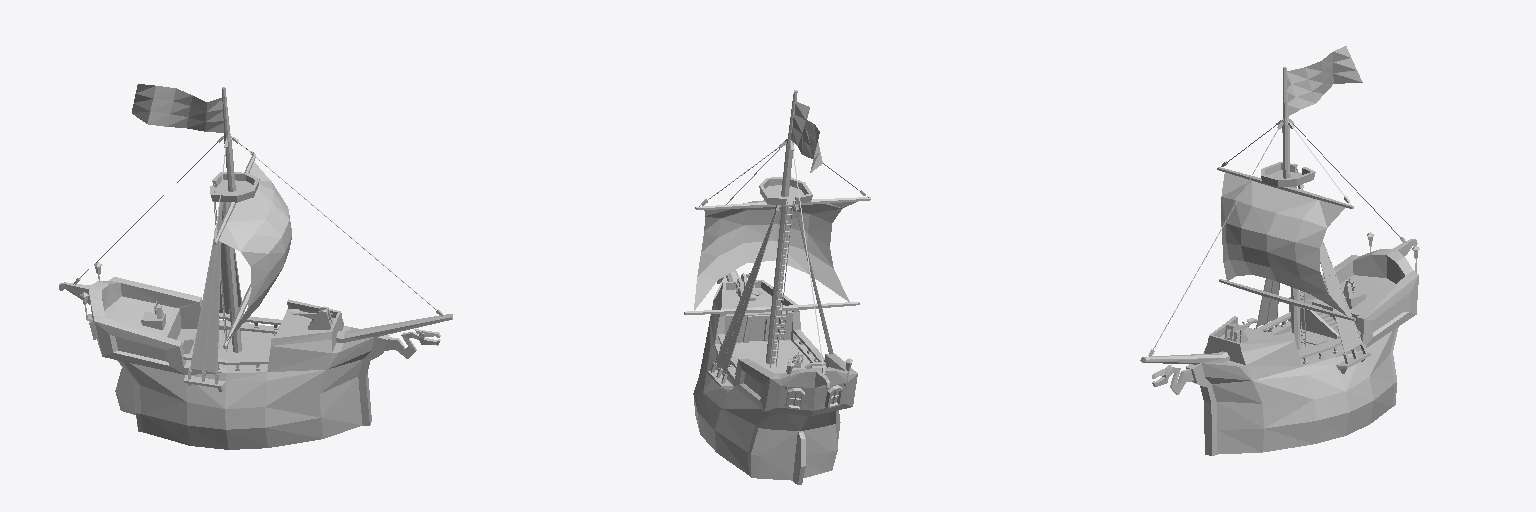
The model's file is ship.obj.
3 renders of one model, left to right at view 1: azimuth 30°, elevation 25°; view 2: azimuth 150°, elevation 25°; view 3: azimuth 270°, elevation 25°, orthographic.
Visible parts, largest first — view 1: DolPirate:polygon40, DolPirate:polygon46, DolPirate:polygon45, DolPirate:polygon43; view 2: DolPirate:polygon40, DolPirate:polygon46, DolPirate:polygon45, DolPirate:polygon41; view 3: DolPirate:polygon40, DolPirate:polygon46, DolPirate:polygon45, DolPirate:polygon41.
Part boxes in pixels (left/top/right/bottom): DolPirate:polygon40: left=59, top=87, right=452, bottom=449; DolPirate:polygon46: left=219, top=162, right=291, bottom=340; DolPirate:polygon45: left=132, top=84, right=223, bottom=132; DolPirate:polygon43: left=290, top=306, right=332, bottom=329; DolPirate:polygon40: left=693, top=90, right=870, bottom=484; DolPirate:polygon46: left=694, top=200, right=857, bottom=310; DolPirate:polygon45: left=791, top=101, right=822, bottom=172; DolPirate:polygon41: left=684, top=302, right=859, bottom=314; DolPirate:polygon40: left=1140, top=67, right=1419, bottom=455; DolPirate:polygon46: left=1221, top=173, right=1346, bottom=315; DolPirate:polygon45: left=1287, top=46, right=1362, bottom=115; DolPirate:polygon41: left=1219, top=279, right=1355, bottom=320.
Bounding box in the file's own units: 14.94 × 19.13 × 13.9.